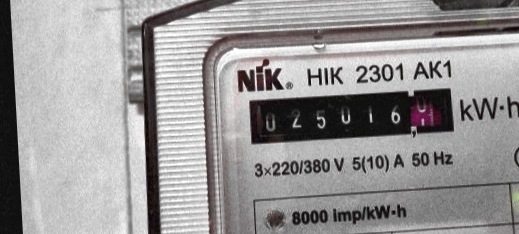0: (338, 101, 353, 125), (262, 109, 276, 132), (413, 92, 426, 113)
1: (363, 99, 375, 125), (416, 115, 425, 127)
2: (288, 105, 302, 129)
5: (313, 107, 325, 128)
6: (387, 101, 401, 126)
screen: (238, 77, 463, 150)
